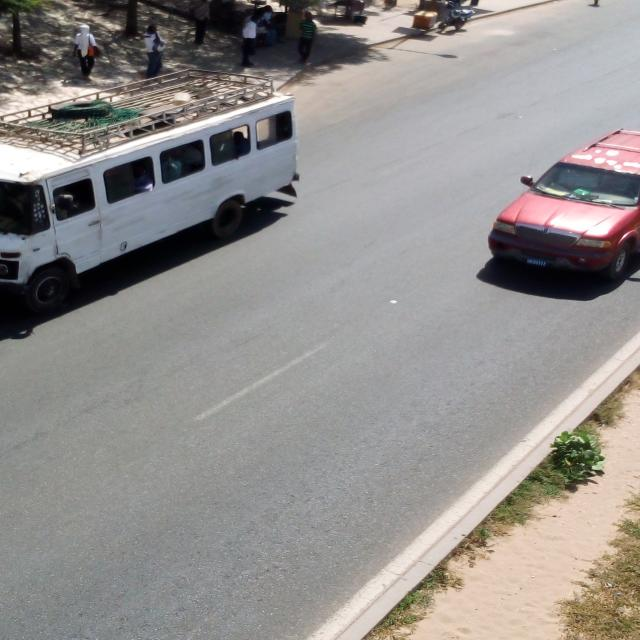moto: (421, 1, 474, 32)
ndiaga ndiaye: (1, 70, 301, 314)
particulier: (489, 131, 640, 280)
